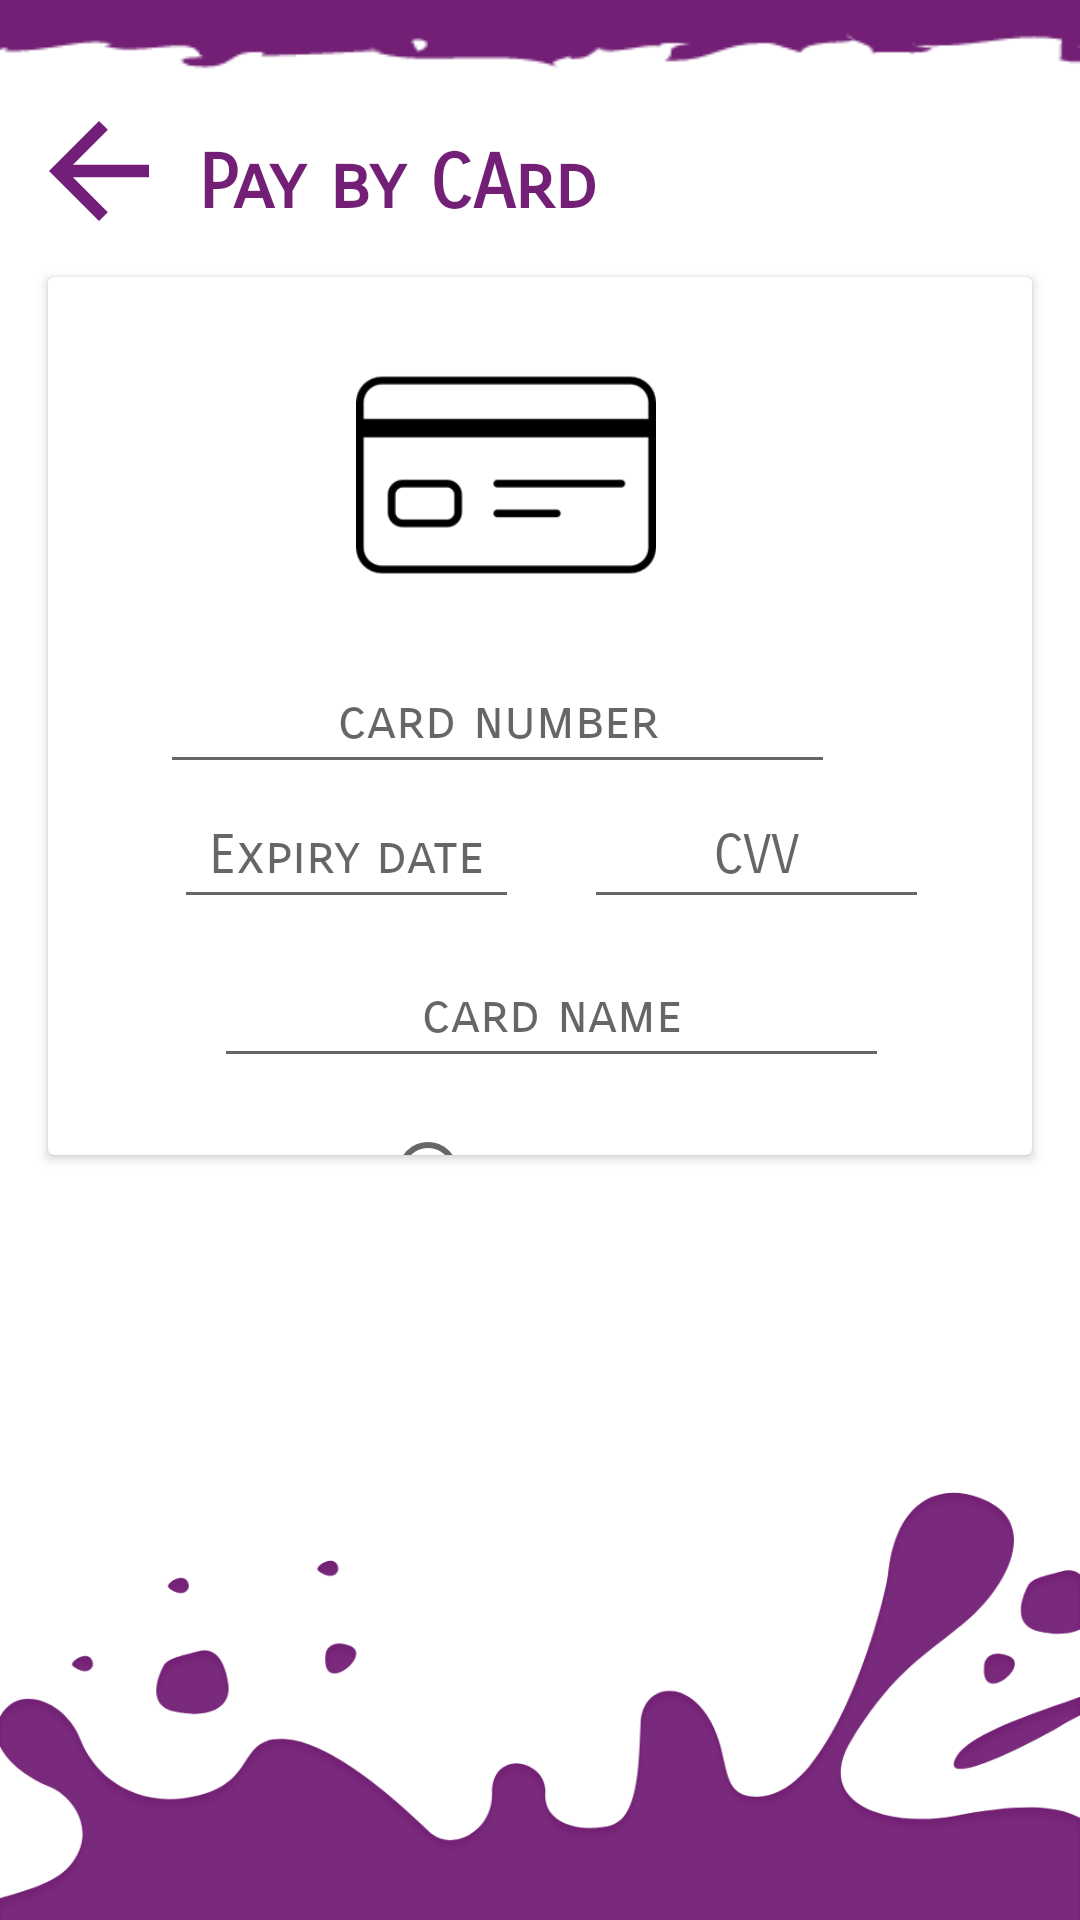

Screen size 1080*1920. Icon name, then its box in pixels as (x1, y1, x2, y2):
arrow back: (49, 121, 149, 221)
debit card layout: (356, 376, 656, 574)
